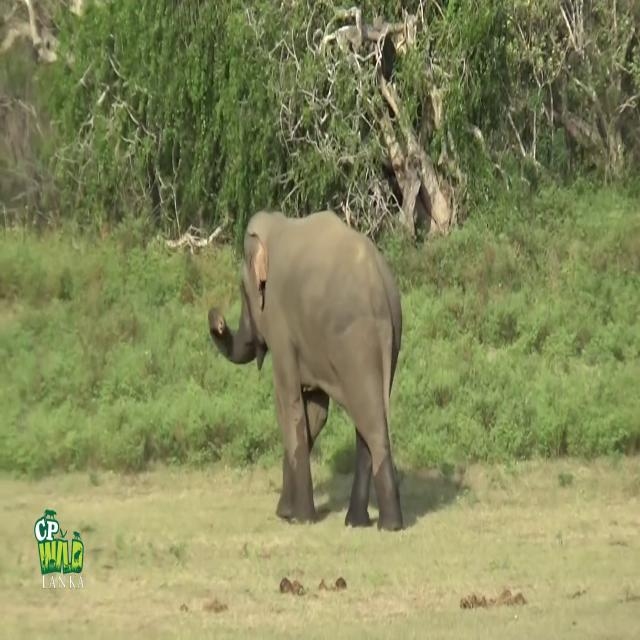Elephant: (208, 208, 404, 532)
